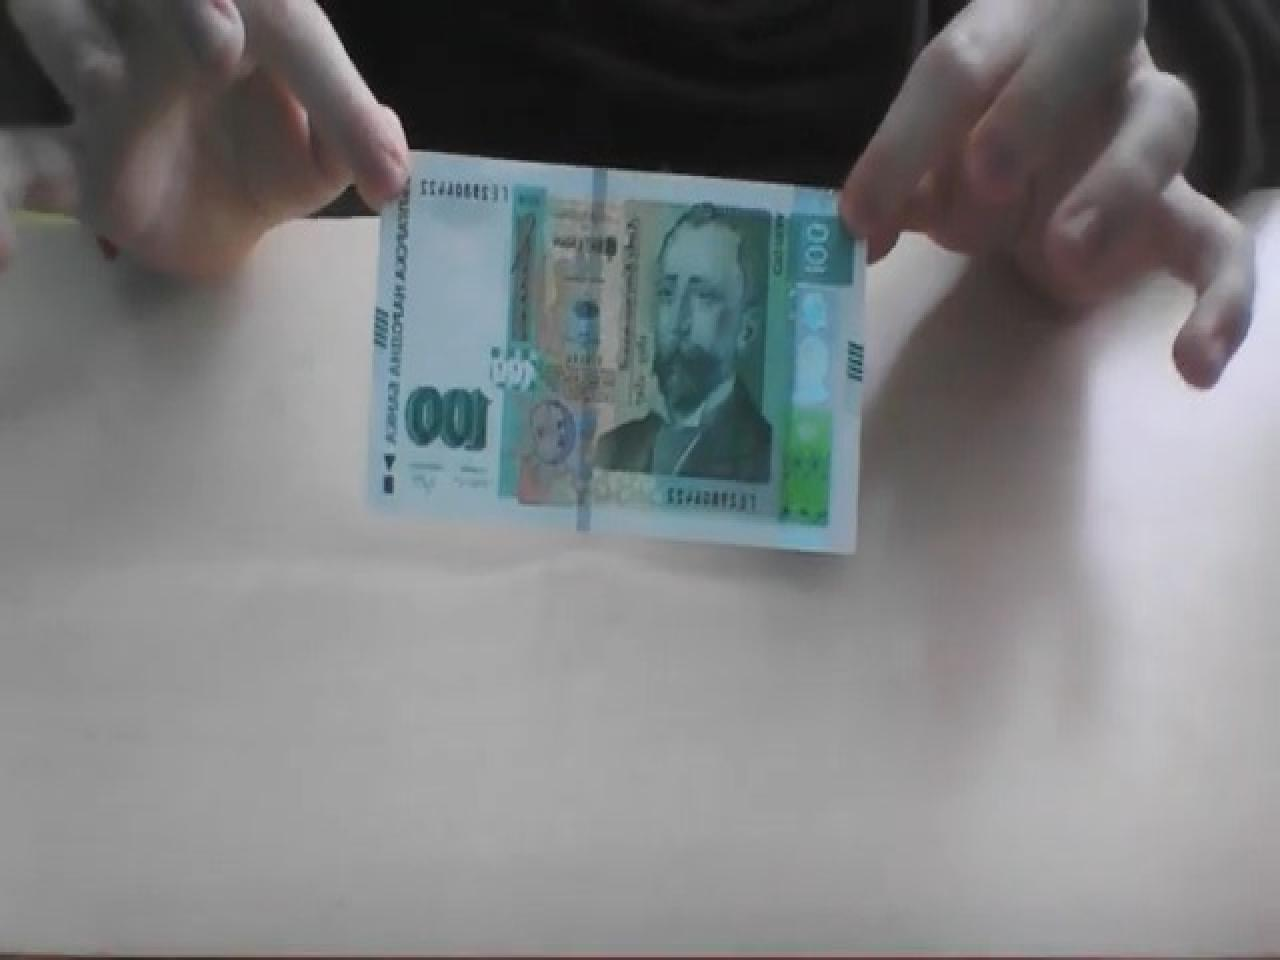100leva: (358, 152, 866, 560)
